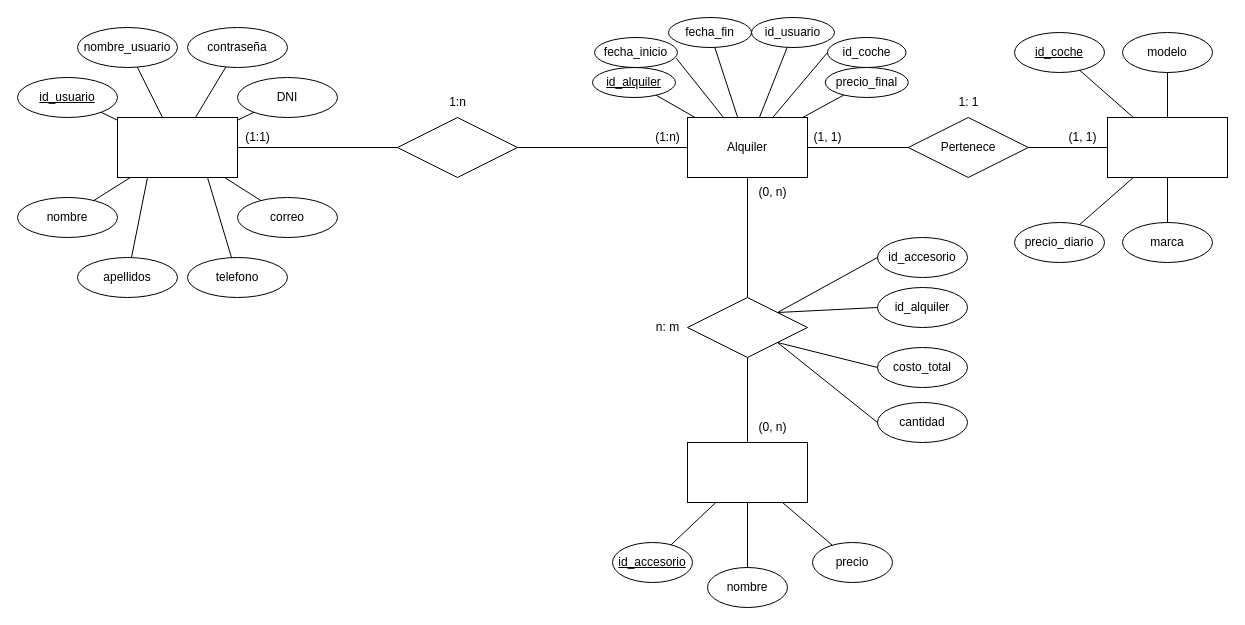
The diagram is 1245 pixels wide and 625 high, and some of its shapes have lost their labels. The centre of each missing label's shape, as x and y in pixels:
Accesorio: point (747, 472)
Coche: point (1167, 147)
Contiene: point (747, 327)
Realiza: point (457, 147)
Usuario: point (177, 147)
